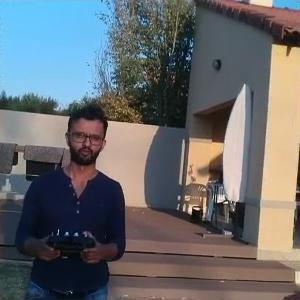follow: (11, 100, 129, 298)
